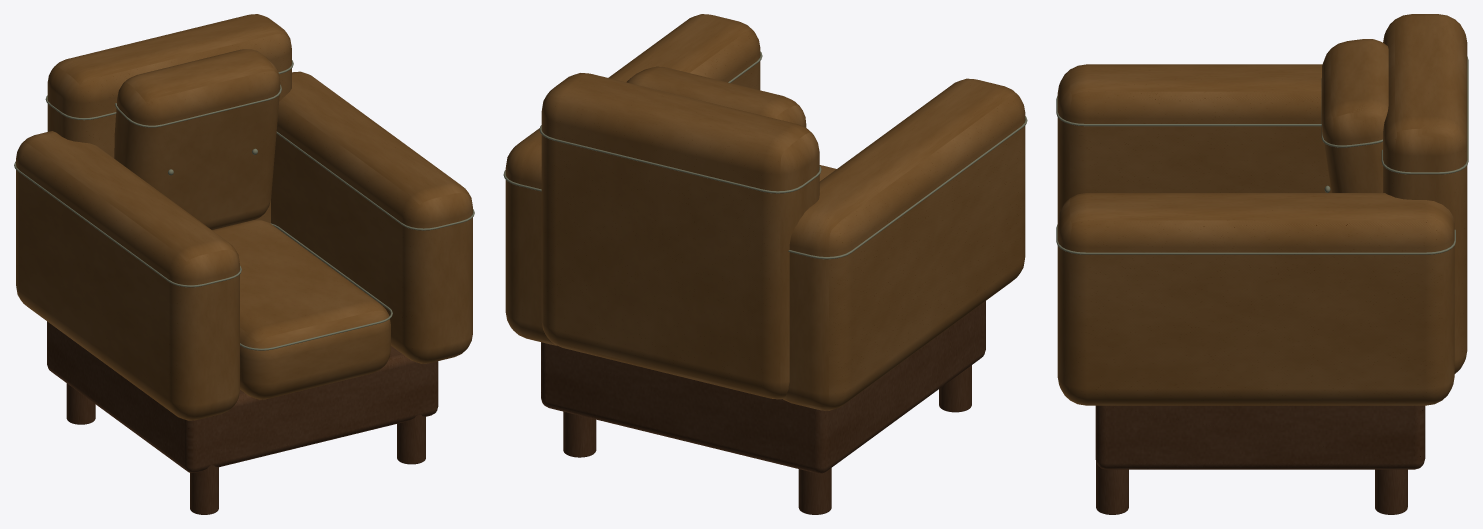
File: chair.glb
The picture shows the model from 3 angles, left to right: view 1: azimuth 30°, elevation 25°; view 2: azimuth 150°, elevation 25°; view 3: azimuth 270°, elevation 25°; orthographic projection. The views are drawn at different scales.
Parts seen in each view (by area): view 1: Upholstered arm, Upholstered arm.001, Back cushion, Walnut lower sofa frame, Seat cushion, Upholstered rear frame, Tapered timber foot, Tapered timber foot.002, Tapered timber foot.001, Seat cushion / stitched piping, Upholstered arm / stitched piping, Upholstered arm / stitched piping.001; view 2: Upholstered rear frame, Upholstered arm, Walnut lower sofa frame, Upholstered arm.001, Back cushion, Tapered timber foot.001, Tapered timber foot.003, Tapered timber foot, Upholstered rear frame / stitched piping, Upholstered arm / stitched piping; view 3: Upholstered arm.001, Upholstered arm, Walnut lower sofa frame, Upholstered rear frame, Back cushion, Tapered timber foot.002, Tapered timber foot.003, Upholstered arm / stitched piping.001, Upholstered arm / stitched piping, Upholstered rear frame / stitched piping.
Part boxes in pixels (x1,y1,x2,y2): Upholstered arm: (16,131,239,420); Upholstered arm.001: (271,71,472,363); Back cushion: (114,49,280,229); Walnut lower sofa frame: (47,321,438,472); Seat cushion: (212,219,390,399); Upholstered rear frame: (47,14,291,223); Tapered timber foot: (190,465,218,514); Tapered timber foot.002: (397,414,425,464); Tapered timber foot.001: (66,383,95,424); Seat cushion / stitched piping: (240,223,392,350); Upholstered arm / stitched piping: (14,161,241,287); Upholstered arm / stitched piping.001: (276,131,474,230); Upholstered rear frame: (541,73,819,399); Upholstered arm: (783,78,1025,410); Walnut lower sofa frame: (541,301,985,473); Upholstered arm.001: (505,14,760,345); Back cushion: (626,66,806,127); Tapered timber foot.001: (798,468,831,514); Tapered timber foot.003: (563,411,596,457); Tapered timber foot: (939,365,971,412); Upholstered rear frame / stitched piping: (539,125,821,193); Upholstered arm / stitched piping: (788,116,1027,259); Upholstered arm.001: (1057,193,1454,405); Upholstered arm: (1057,64,1331,220); Walnut lower sofa frame: (1095,405,1425,469); Upholstered rear frame: (1383,14,1467,373); Back cushion: (1322,39,1388,192); Tapered timber foot.002: (1096,461,1128,514); Tapered timber foot.003: (1375,469,1407,514); Upholstered arm / stitched piping.001: (1056,224,1455,254); Upholstered arm / stitched piping: (1056,96,1321,126); Upholstered rear frame / stitched piping: (1381,56,1468,174).
Bounding box in the file's own units: 0.9356 × 1.01 × 0.9756.
3 materials, 2 textured.
